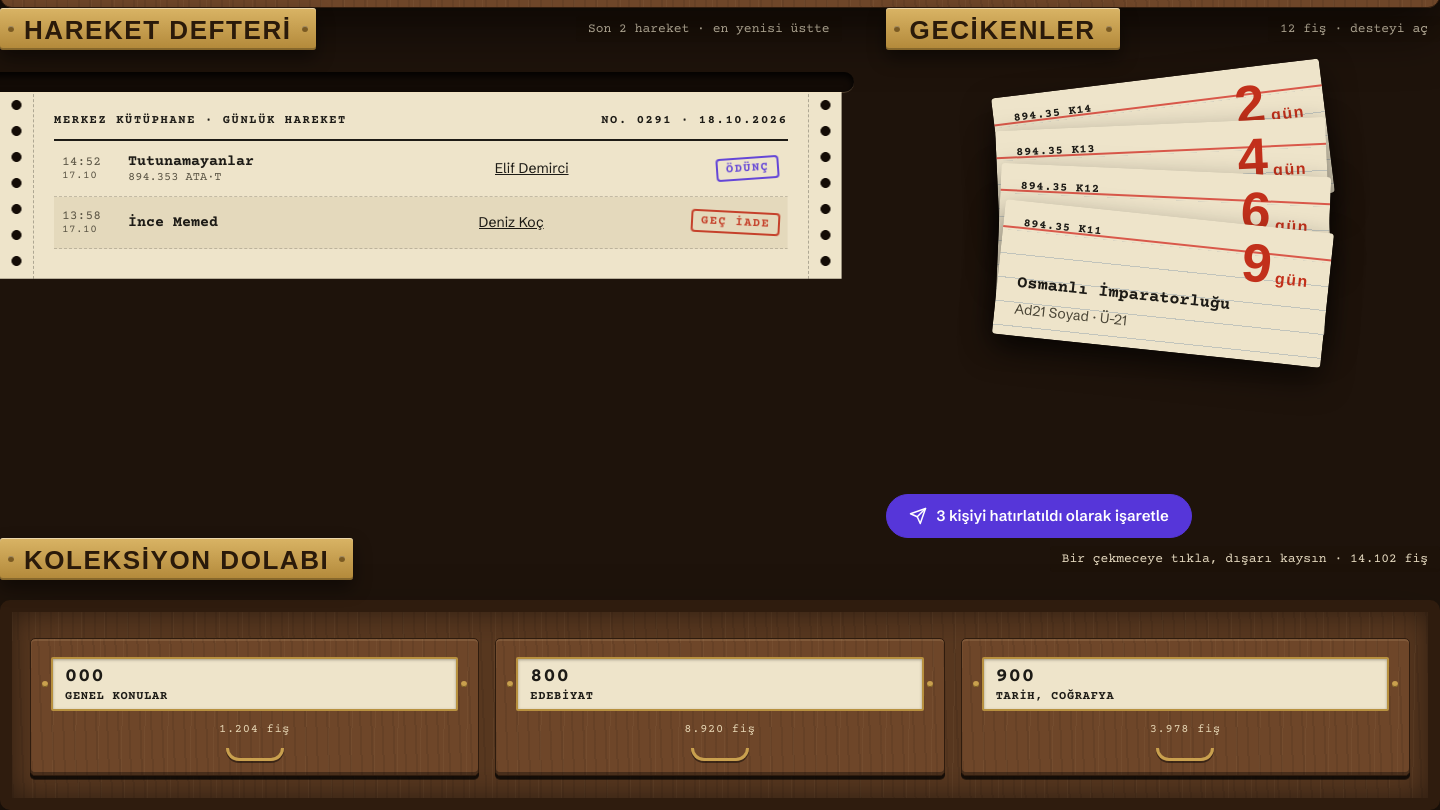
PanelSayfasi › hatırlatma işaretini fişlere vurur, saklar ve geri alır
(page scrolled)
Click the button "3 kişiyi hatırlatıldı olarak işaretle" at (1039, 516), box [886, 494, 1192, 538]
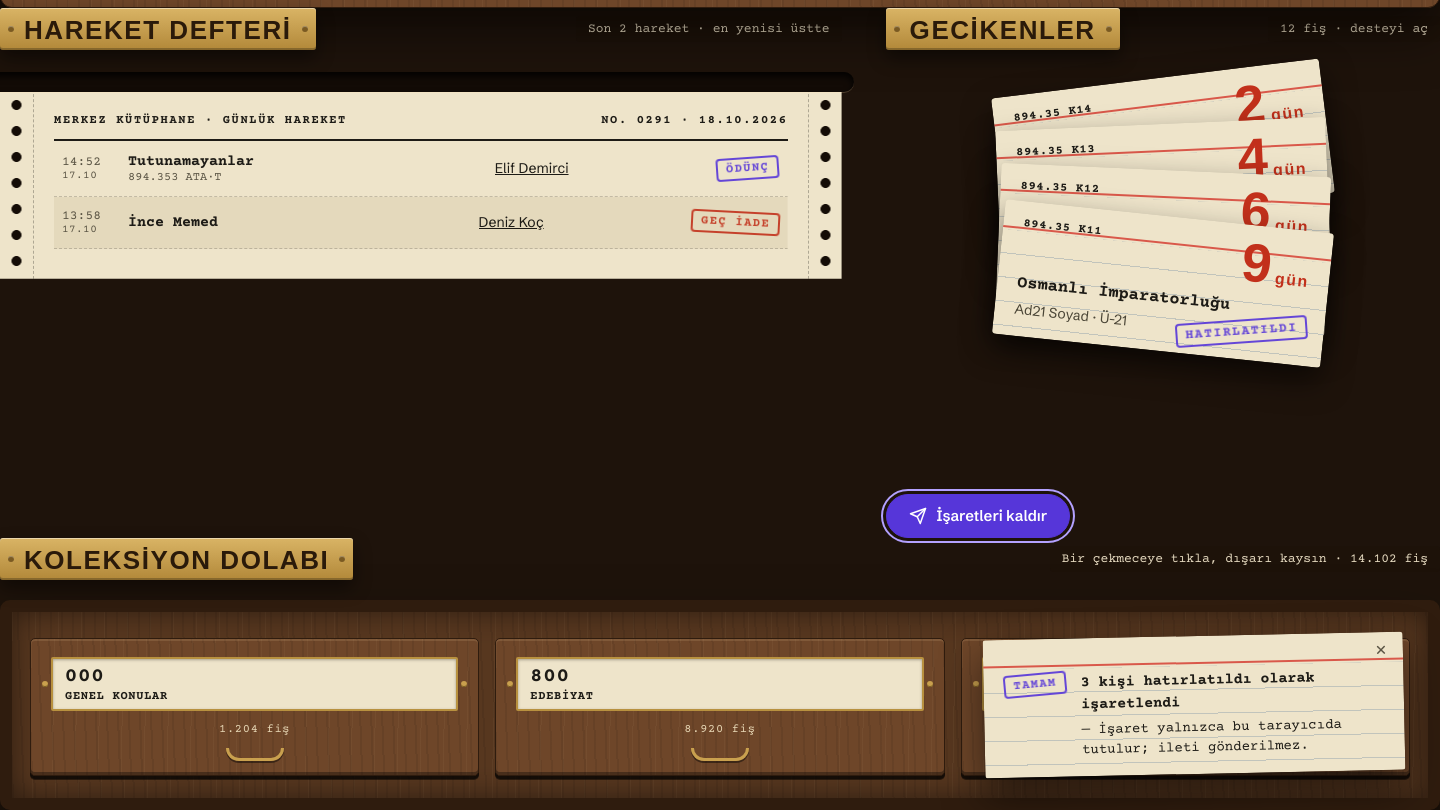
Expected: the text "Hatırlatıldı" is shown 4 times, [1183, 144, 1317, 205]; [1180, 201, 1314, 253]; [1176, 284, 1310, 324]; [1174, 314, 1308, 348]
Expected: the button named "3 kişiyi hatırlatıldı olarak işaretle" reads "İşaretleri kaldır"
Expected: the text "3 kişi hatırlatıldı olarak işaretlendi" is shown, [1080, 669, 1315, 713]
Click the button named "3 kişiyi hatırlatıldı olarak işaretle" at (978, 516), box [886, 494, 1070, 538]
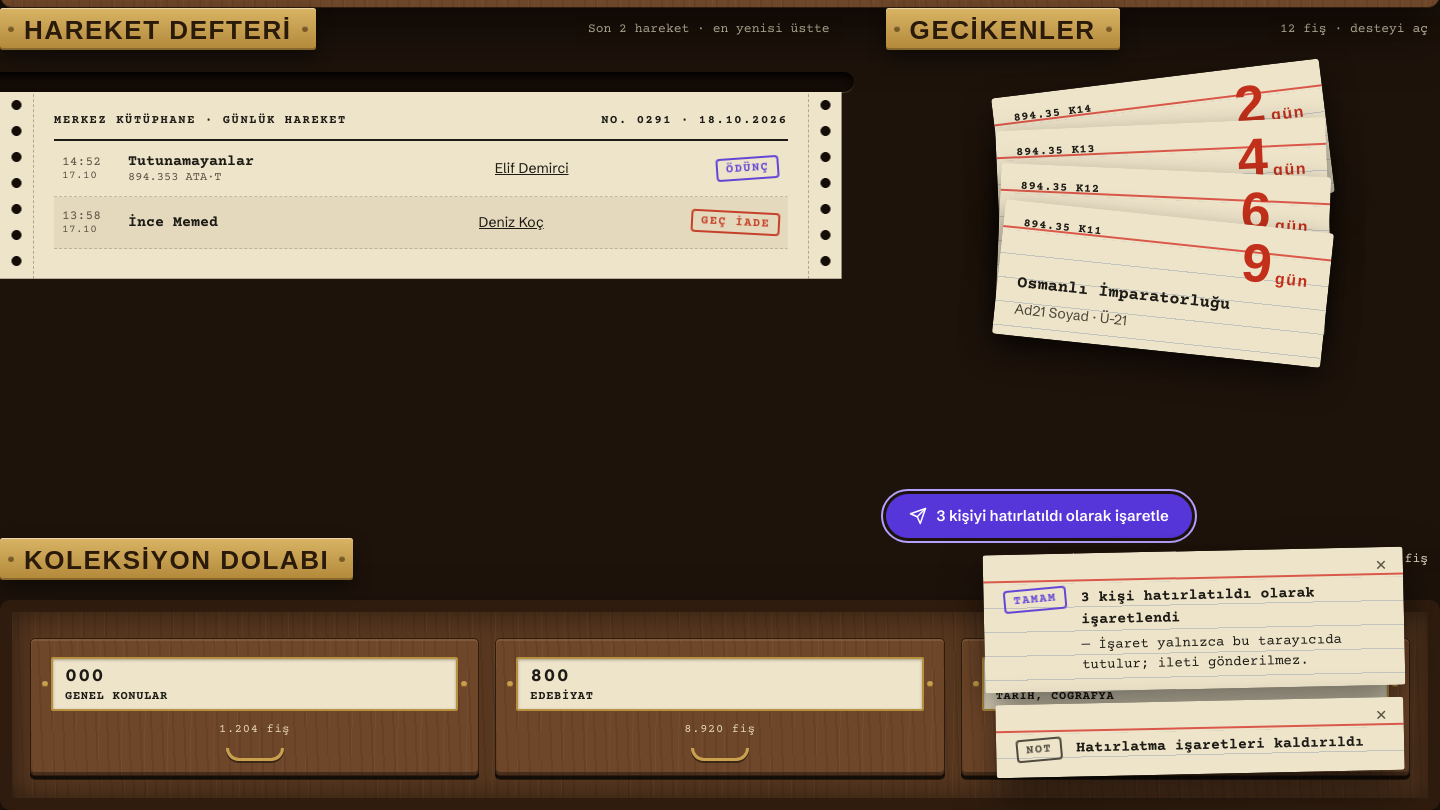
Expected: the button "3 kişiyi hatırlatıldı olarak işaretle" is shown, [886, 494, 1192, 538]
